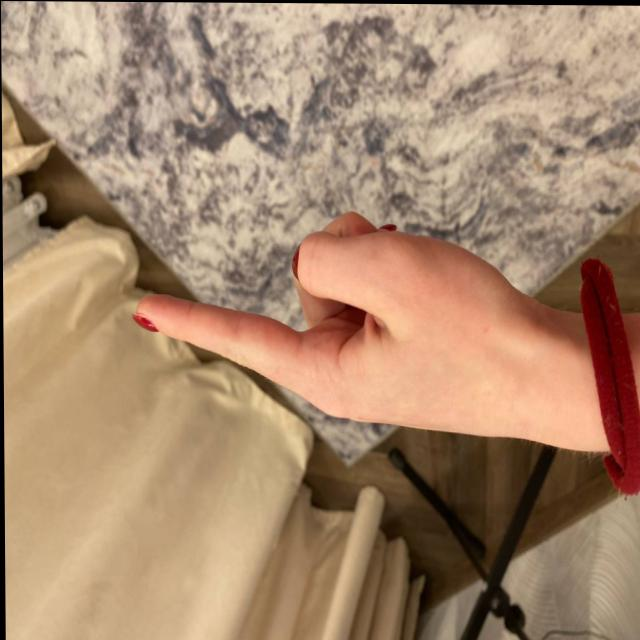z: (107, 194, 558, 525)
